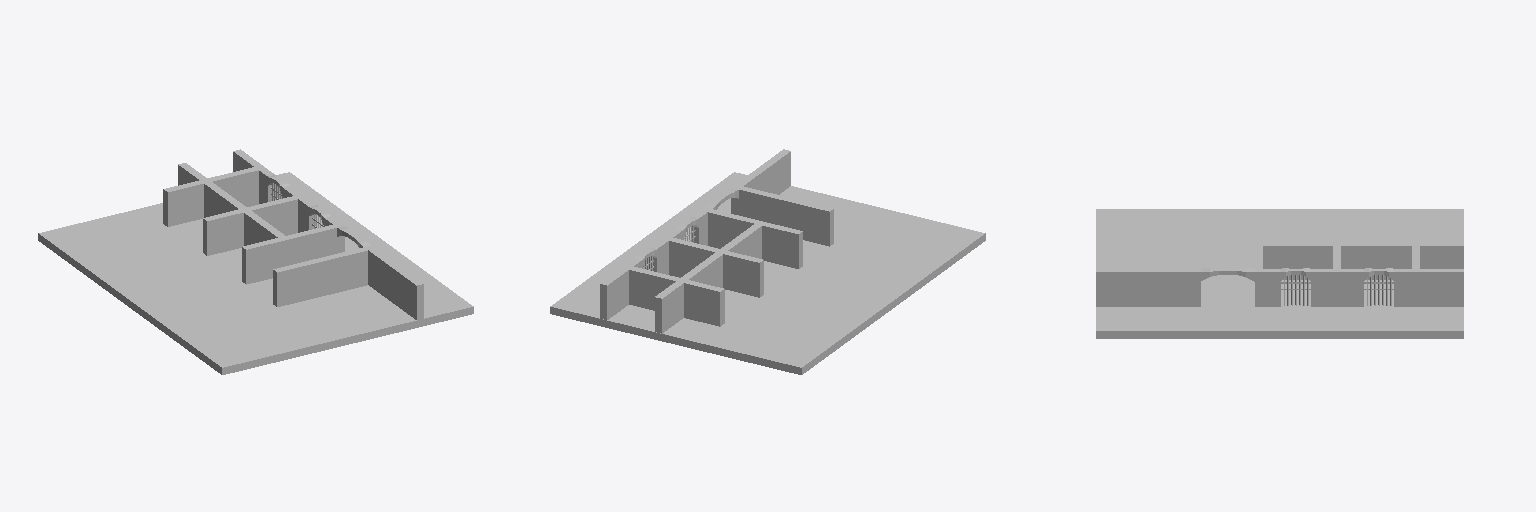
The model's file is dungeon.obj.
The picture shows the model from 3 angles: view 1: azimuth 30°, elevation 25°; view 2: azimuth 150°, elevation 25°; view 3: azimuth 270°, elevation 25°; orthographic projection.
Visible parts, largest first — view 1: Floor_Cube.001, Cell_2_Wall_Cube.012, Wall_2_Cube.003, Wall_5_Cube.010; view 2: Floor_Cube.001, Cell_2_Wall_Cube.012, Wall_5_Cube.010, Wall_2_Cube.003; view 3: Floor_Cube.001, Cell_2_Wall_Cube.012, Wall_2_Cube.003, Wall_5_Cube.010.
Part boxes in pixels (x1,y1,x2,y2): Floor_Cube.001: (38, 172, 473, 374); Cell_2_Wall_Cube.012: (163, 163, 367, 306); Wall_2_Cube.003: (324, 216, 423, 320); Wall_5_Cube.010: (233, 149, 330, 232); Floor_Cube.001: (550, 172, 985, 374); Cell_2_Wall_Cube.012: (629, 186, 833, 333); Wall_5_Cube.010: (600, 217, 698, 319); Wall_2_Cube.003: (692, 149, 790, 245); Floor_Cube.001: (1096, 209, 1463, 338); Cell_2_Wall_Cube.012: (1192, 224, 1463, 279); Wall_2_Cube.003: (1096, 268, 1280, 306); Wall_5_Cube.010: (1281, 268, 1463, 306).
Bounding box in the file's own units: 16.99 × 2.78 × 21.53.